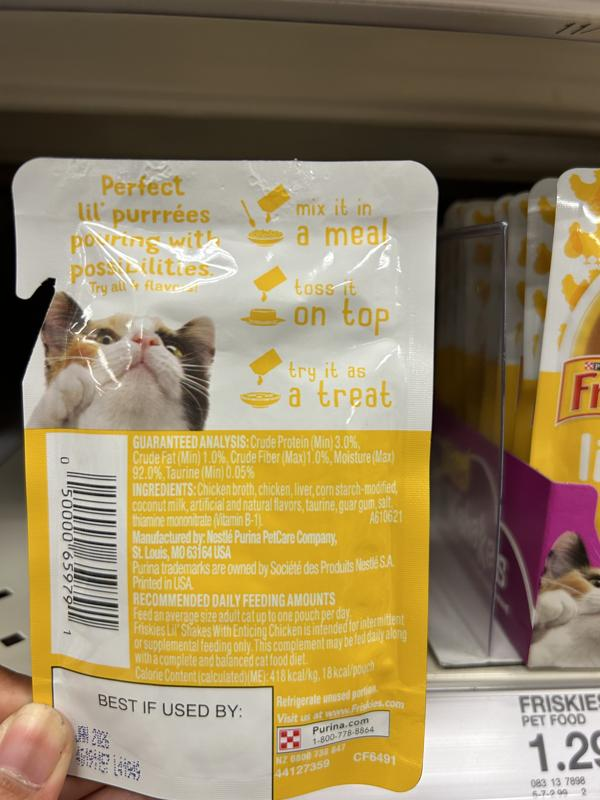ingredients: (130, 482, 399, 529)
